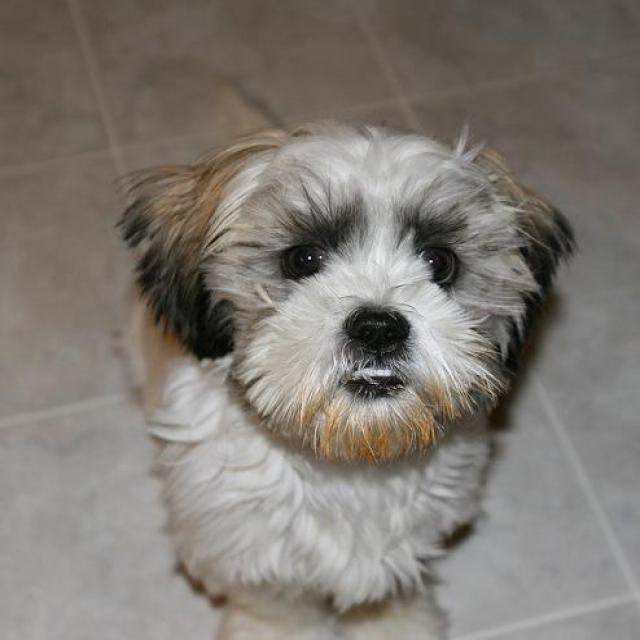shih_tzu: (118, 125, 579, 638)
